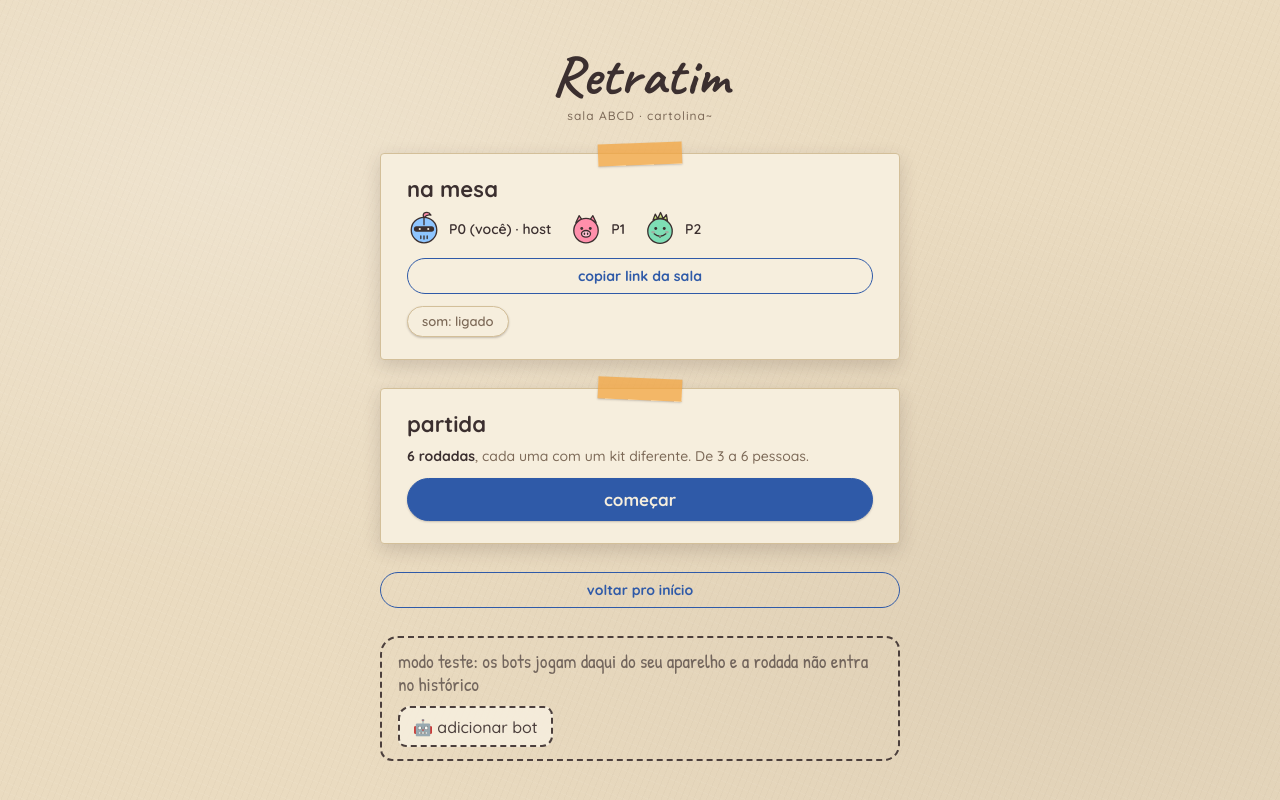
Test: lobby do Retratim › copiar o link avisa que copiou
The width and height of the screenshot is (1280, 800).
Click the button "copiar link da sala" at {"x": 640, "y": 276}, box [407,258,873,294]
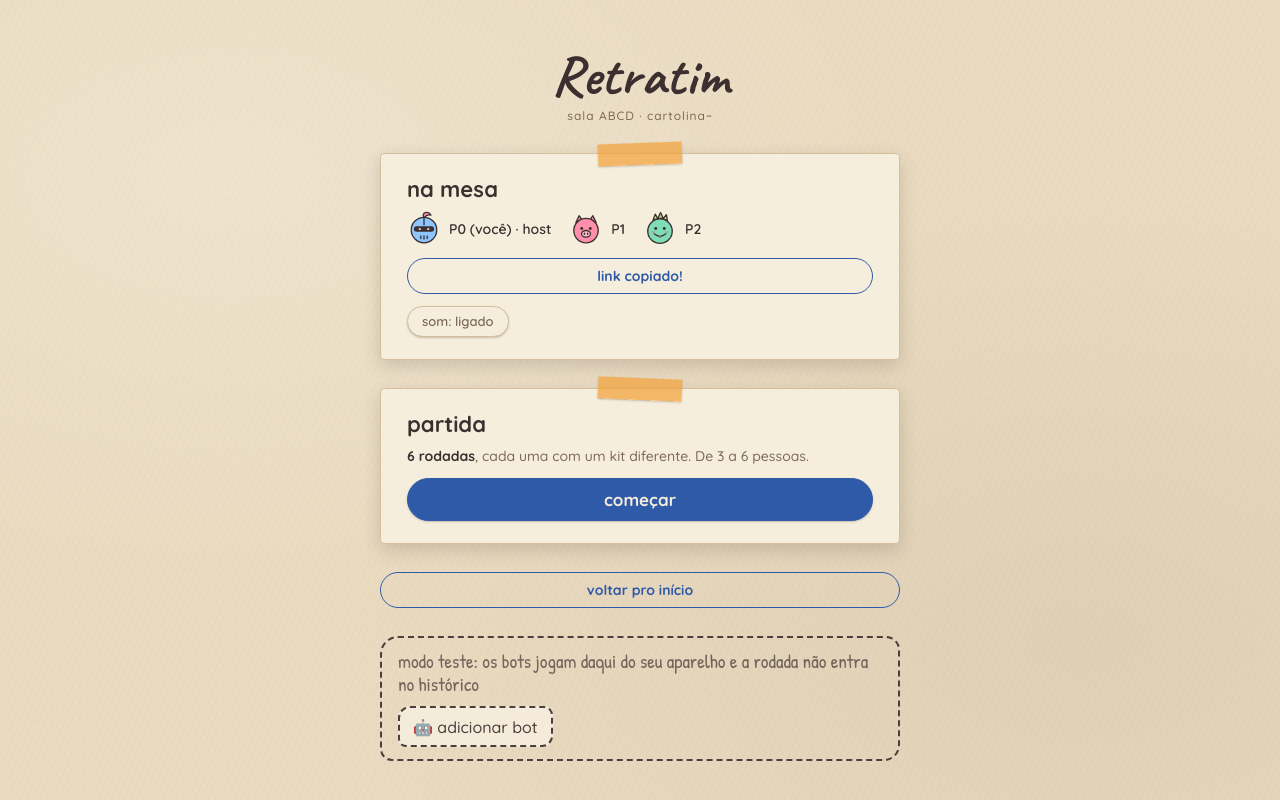
Expected: the button "link copiado!" is shown, [407,258,873,294]
